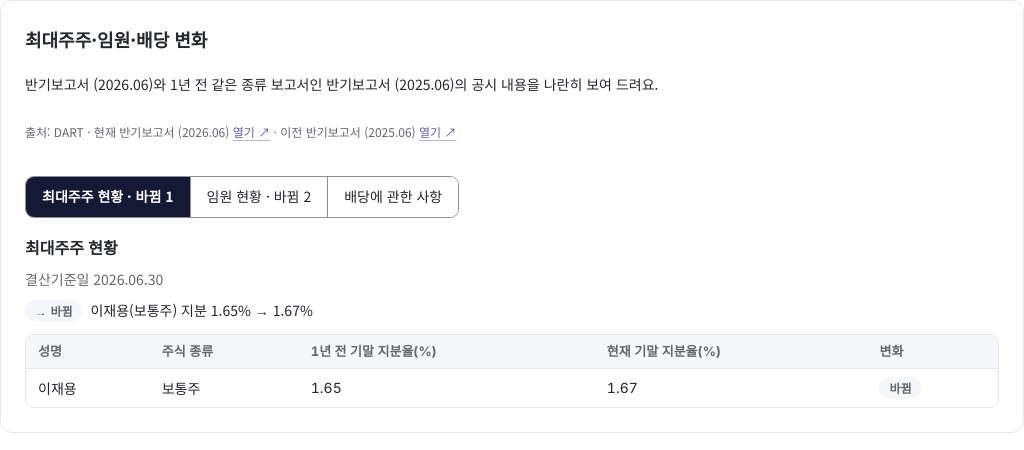
Test: 최대주주·임원·배당 변화 › 세 묶음에 바뀐 항목을 기호와 글자로 먼저 보이고, 출처 보고서와 DART 링크를 둔다
Expected: the list named "최대주주 현황 바뀐 항목" shows "바뀜", [50,302,72,319]
Expected: the list named "최대주주 현황 바뀐 항목" shows "이재용(보통주) 지분 1.65% → 1.67%", [90,300,313,320]
Step 1. Click the button "임원 현황 · 바뀜 2" → (258, 197), box [190,177,327,217]
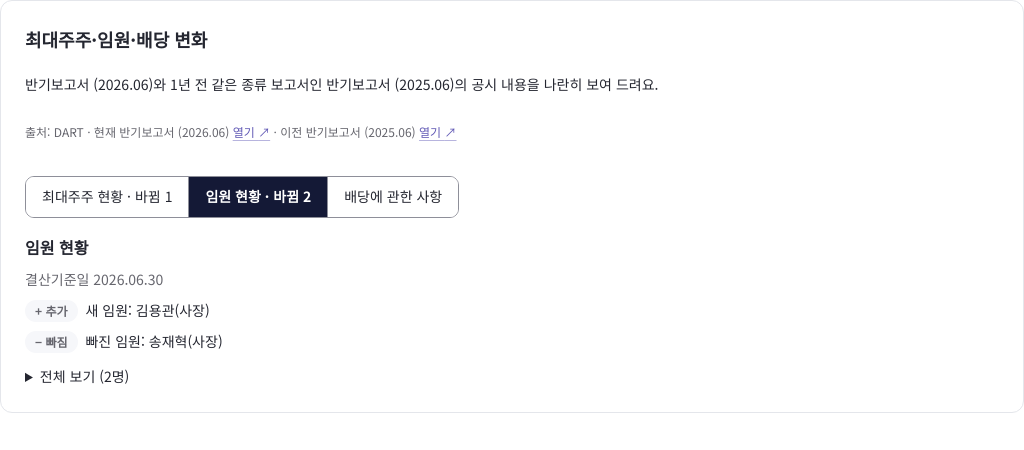
Now the list item "새 임원: 김용관(사장)" is shown, box [86,300,210,320]
Now the list item "빠진 임원: 송재혁(사장)" is shown, box [86,331,223,351]
Now the heading "전체 보기 (2명)" is shown, box [40,366,129,386]
Step 2. Click the button "배당에 관한 사항" → (393, 197), box [327,177,458,217]
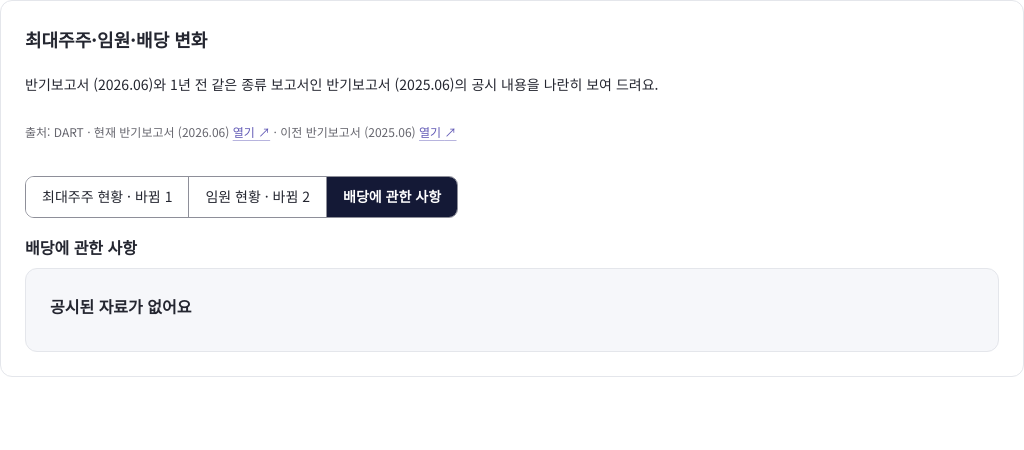
Expected: the link with aria-label "이전 반기보고서 (2025.06) DART 원문 새 창으로 열기" is shown, [419,123,456,140]
Now the text "공시된 자료가 없어요" is shown, box [50,294,192,318]
